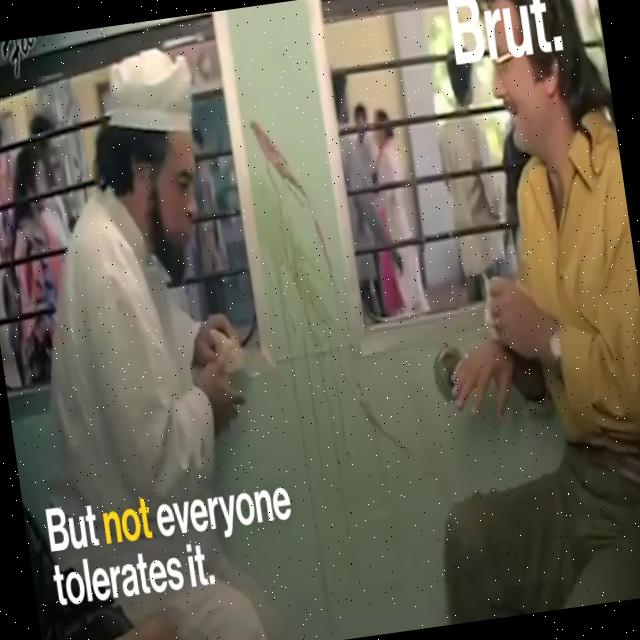spit: (239, 108, 432, 521)
